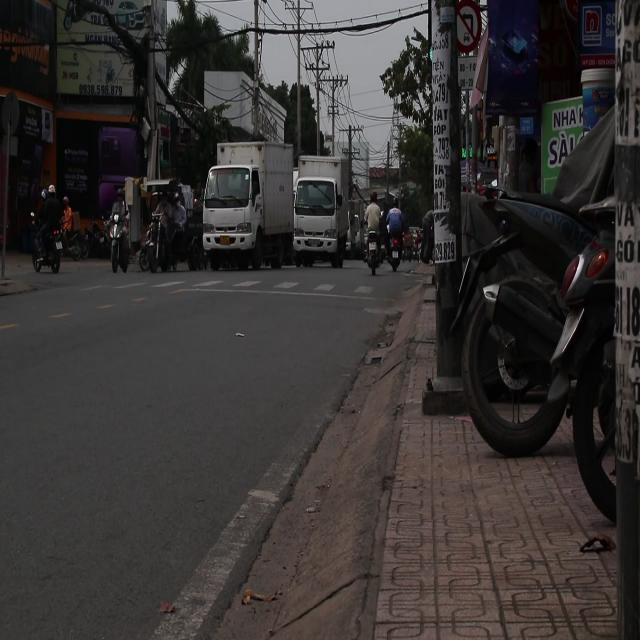motorbike: (22, 204, 70, 302), (101, 200, 138, 292), (388, 222, 411, 290), (364, 227, 389, 275)
truck: (199, 140, 295, 272), (292, 155, 356, 270)
